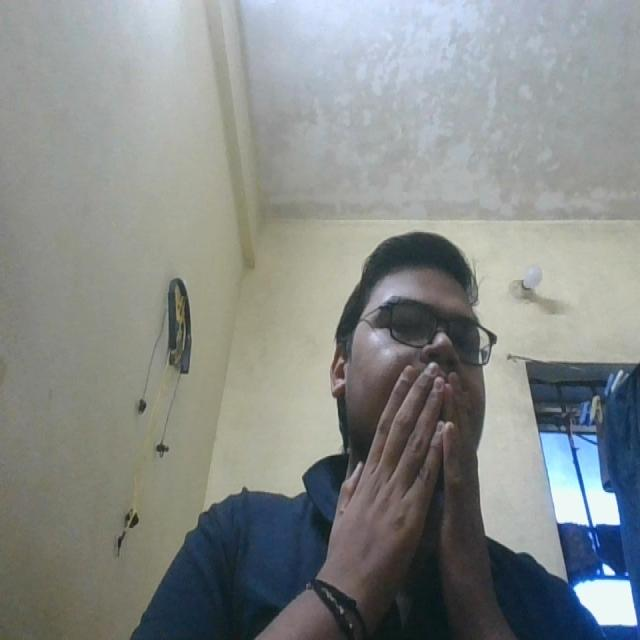Thanks: (331, 352, 508, 600)
